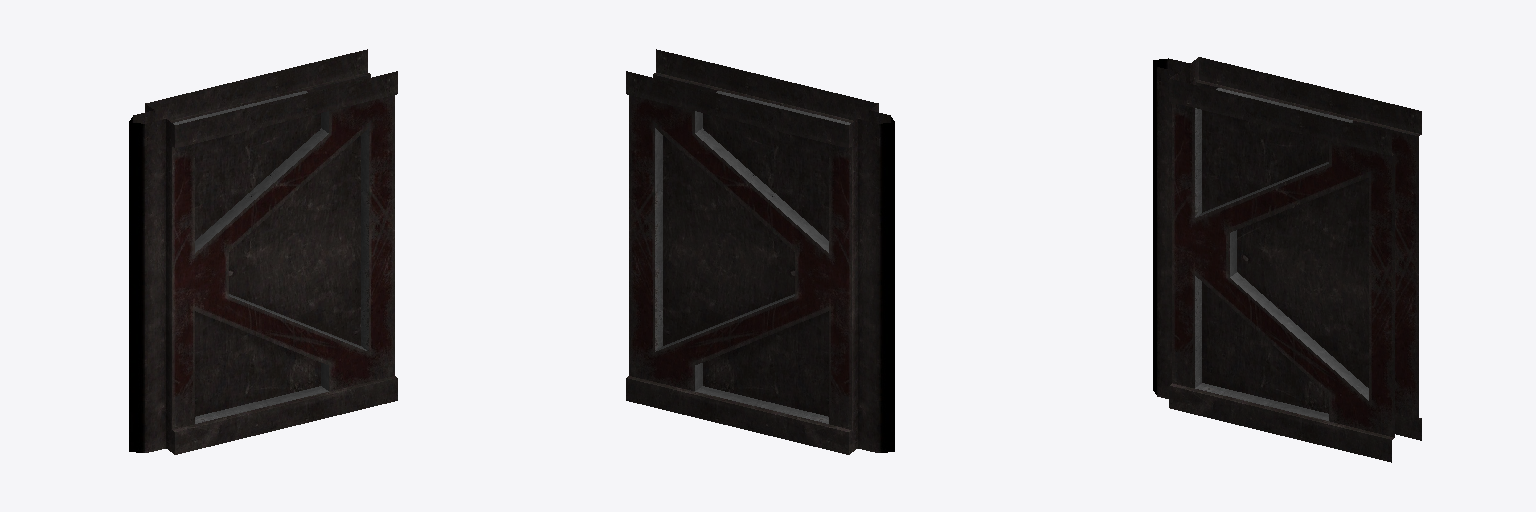
3 renders of one model, left to right at view 1: azimuth 30°, elevation 25°; view 2: azimuth 150°, elevation 25°; view 3: azimuth 330°, elevation 25°, orthographic.
Visible parts, largest first — view 1: 3hcgcpro2510.001; view 2: 3hcgcpro2510.001; view 3: 3hcgcpro2510.001.
Part boxes in pixels (left/top/right/bottom): 3hcgcpro2510.001: left=129, top=49, right=397, bottom=454; 3hcgcpro2510.001: left=626, top=49, right=894, bottom=454; 3hcgcpro2510.001: left=1153, top=57, right=1421, bottom=462.
Size of the model in its own units: 1.85 by 2.3 by 0.377.
1 materials, 1 textured.